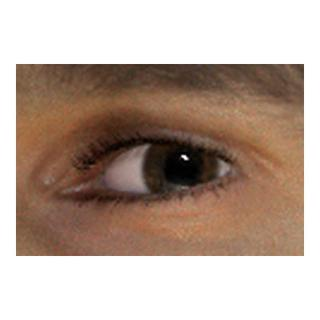pupil: (164, 152, 197, 185)
